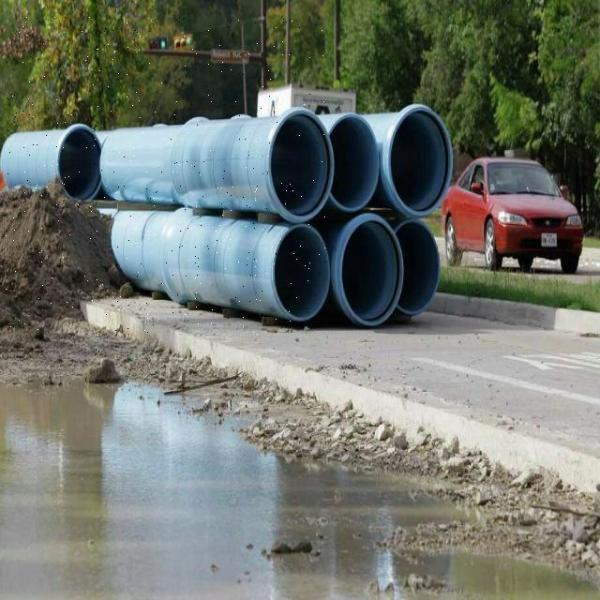water accumulation: (0, 371, 600, 600)
